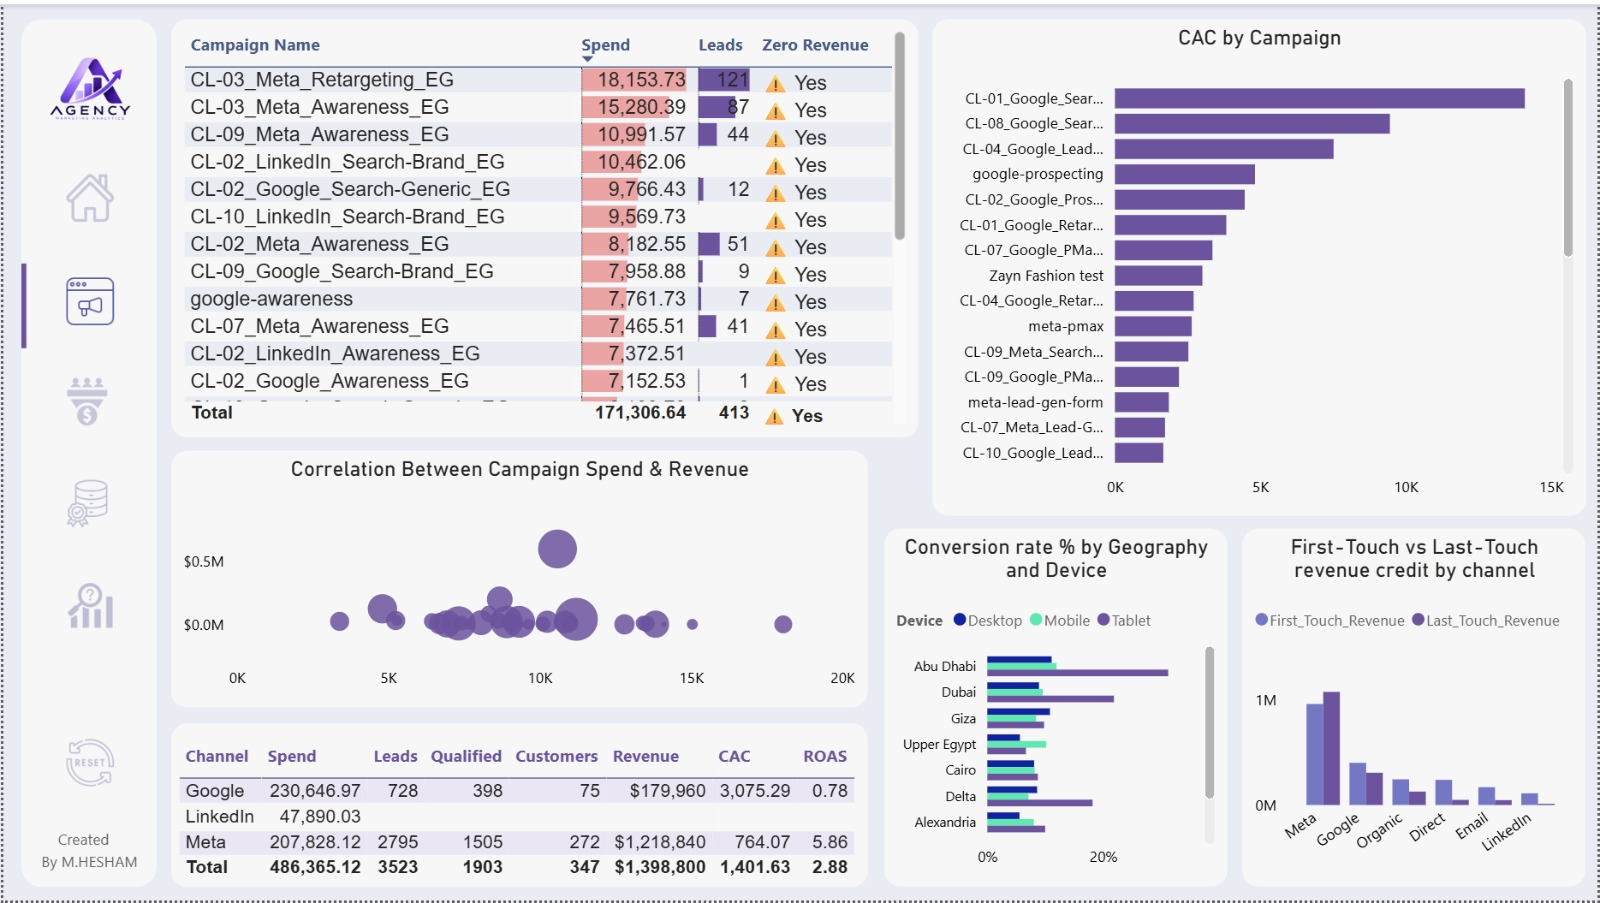

This screenshot's page, from the dashboard's own definition file:
{"tool":"powerbi","page":{"name":"Channel & Campaign Performance","canvas":[1280,720],"ordinal":1},"visuals":[{"type":"group","id":"g1","title":"Group 2","box":[14.9,11.7,108.6,706.3],"z":0,"group":"g3"},{"type":"clusteredBarChart","title":"CAC by Campaign","fields":{"Category":["dim_campaign.Campaign_Name"],"Y":["A_Measures.CAC"]},"box":[745.7,11.8,525.1,399.1],"z":1000},{"type":"clusteredColumnChart","title":"First-Touch vs Last-Touch revenue credit by channel","fields":{"Category":["dim_Channel.Channel"],"Y":["A_Measures.First_Touch_Revenue","A_Measures.Last_Touch_Revenue"]},"box":[995.1,421.4,275.7,287.5],"z":2000},{"type":"clusteredBarChart","title":"Conversion rate % by Geography and Device","fields":{"Category":["dim_geography.Geography"],"Series":["dim_lead_attributes.Device"],"Y":["A_Measures.Conversion_rate %"]},"box":[707.6,421.4,275.7,287.5],"z":3000},{"type":"shape","box":[14.9,11.7,108.6,697.1],"z":4000,"group":"g2"},{"type":"tableEx","fields":{"Values":["dim_campaign.Campaign_Name","A_Measures.Total_spend","A_Measures.Total_leads","A_Measures.Is Zero-Revenue"]},"box":[135.2,11.8,600,336.1],"z":4000},{"type":"image","box":[50.4,133.9,38.1,42],"z":5000,"group":"g2"},{"type":"tableEx","fields":{"Values":["dim_Channel.Channel","A_Measures.Total_spend","A_Measures.Total_leads","A_Measures.Total_qualified","A_Measures.Customers","A_Measures.Closed_Revenue","A_Measures.CAC","A_Measures.ROAS"]},"box":[135.2,577.7,559.3,131.3],"z":5000},{"type":"image","box":[50.4,217.9,38.1,42],"z":6000,"group":"g2"},{"type":"scatterChart","title":"Correlation Between Campaign Spend & Revenue","fields":{"Category":["dim_campaign.Campaign_Name"],"Size":["A_Measures.Customers"],"X":["A_Measures.Total_spend"],"Y":["A_Measures.Closed_Revenue"]},"box":[135.2,358.4,559.3,206.1],"z":6000},{"type":"image","box":[50.4,588.1,38.1,42],"z":7000,"group":"g2"},{"type":"image","box":[49.1,298,38.1,42],"z":8000,"group":"g2"},{"type":"image","box":[49.1,379.4,38.1,42],"z":9000,"group":"g2"},{"type":"image","box":[50.4,462.1,38.1,42],"z":9250,"group":"g2"},{"type":"pageNavigator","box":[14.9,129.9,107.7,383.4],"z":9500,"group":"g2"},{"type":"group","id":"g2","title":"Group 1","box":[14.9,11.7,108.6,697.1],"z":11000,"group":"g1"},{"type":"image","box":[28.8,26.2,81.4,80.1],"z":11000,"group":"g3"},{"type":"group","id":"g3","title":"Group 3","box":[14.9,11.7,108.6,706.3],"z":11001},{"type":"textbox","box":[16.2,655,105,63],"z":11500,"group":"g1"}]}

Visuals, with their boxes in screenshot pixels (x1, y1, x2, y2), scaled from the page's 1280x720 canvas onto the 1600x903 screenshot:
"Group 2" group: 19:15:154:900
"CAC by Campaign" clusteredBarChart: 932:15:1589:515
"First-Touch vs Last-Touch revenue credit by channel" clusteredColumnChart: 1244:529:1588:889
"Conversion rate % by Geography and Device" clusteredBarChart: 884:529:1229:889
shape: 19:15:154:889
tableEx - dim_campaign.Campaign_Name x A_Measures.Total_spend: 169:15:919:436
image: 63:168:111:221
tableEx - dim_Channel.Channel x A_Measures.Total_spend: 169:725:868:889
image: 63:273:111:326
"Correlation Between Campaign Spend & Revenue" scatterChart: 169:449:868:708
image: 63:738:111:790
image: 61:374:109:426
image: 61:476:109:529
image: 63:580:111:632
pageNavigator: 19:163:153:644
"Group 1" group: 19:15:154:889
image: 36:33:138:133
"Group 3" group: 19:15:154:900
textbox: 20:821:152:900
